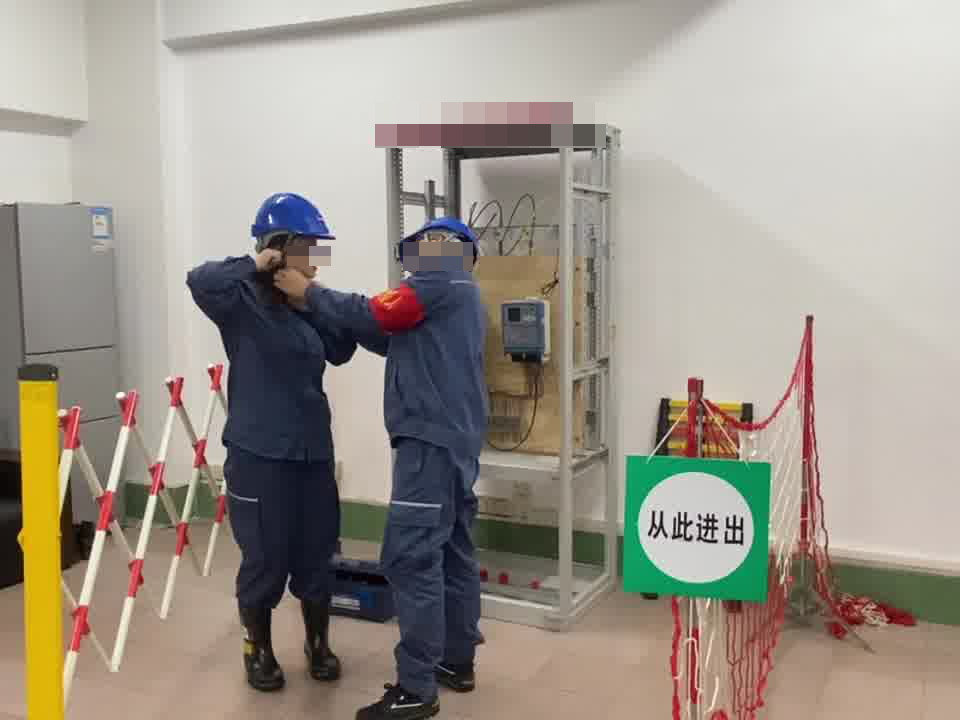badge: (370, 281, 424, 334)
downsuit: (376, 453, 486, 688), (224, 463, 343, 615)
halt: (249, 192, 336, 287), (401, 217, 482, 275)
hand: (272, 263, 308, 301), (248, 245, 282, 274)
inear: (419, 227, 455, 269)
intosign: (615, 448, 775, 608)
person: (183, 189, 365, 700), (363, 211, 500, 716)
shoe: (231, 601, 287, 696), (296, 599, 346, 686)
upsuit: (195, 260, 353, 459), (363, 265, 488, 440)
